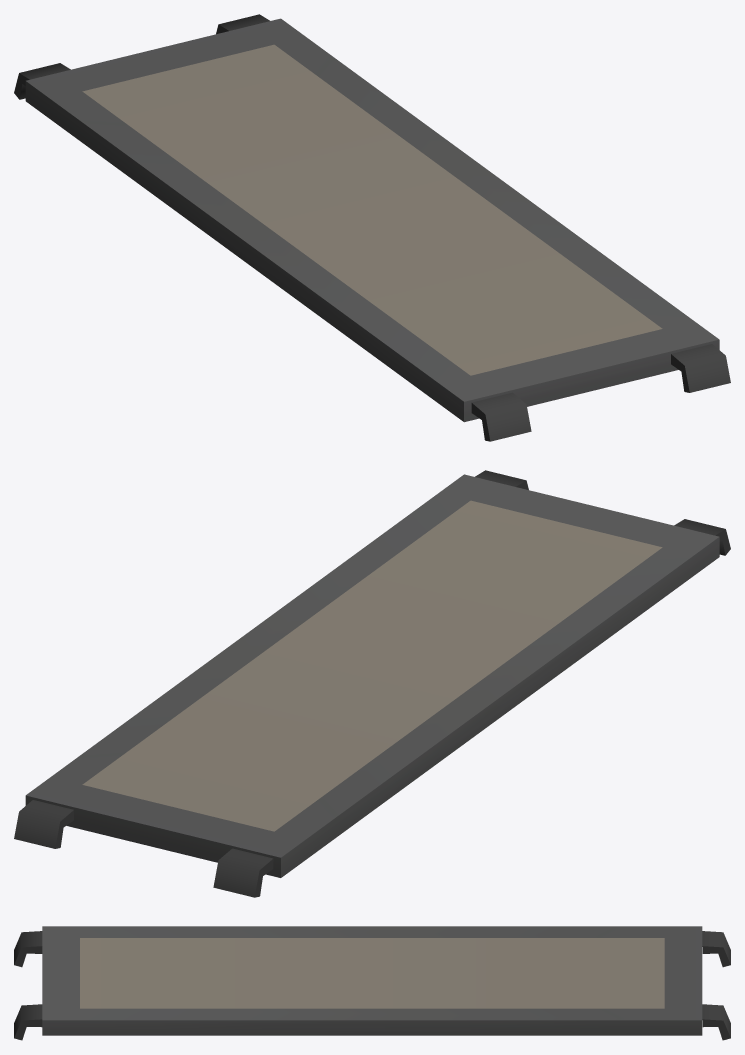
Rendered from Scaffolding_Plank_A.glb.
3 renders of one model, top to bottom at view 1: azimuth 30°, elevation 25°; view 2: azimuth 150°, elevation 25°; view 3: azimuth 270°, elevation 25°, orthographic. The views are drawn at different scales.
Parts seen in each view (by area): view 1: Scaffolding_Plank_A; view 2: Scaffolding_Plank_A; view 3: Scaffolding_Plank_A.
Part boxes in pixels (box(x1,y1,x2,y2)): Scaffolding_Plank_A: box(14, 14, 730, 441); Scaffolding_Plank_A: box(14, 470, 730, 897); Scaffolding_Plank_A: box(14, 926, 730, 1040).
Size of the model in its own units: 0.6543 by 0.0753 by 2.11.
Materials: 2 (2 with a texture image).
